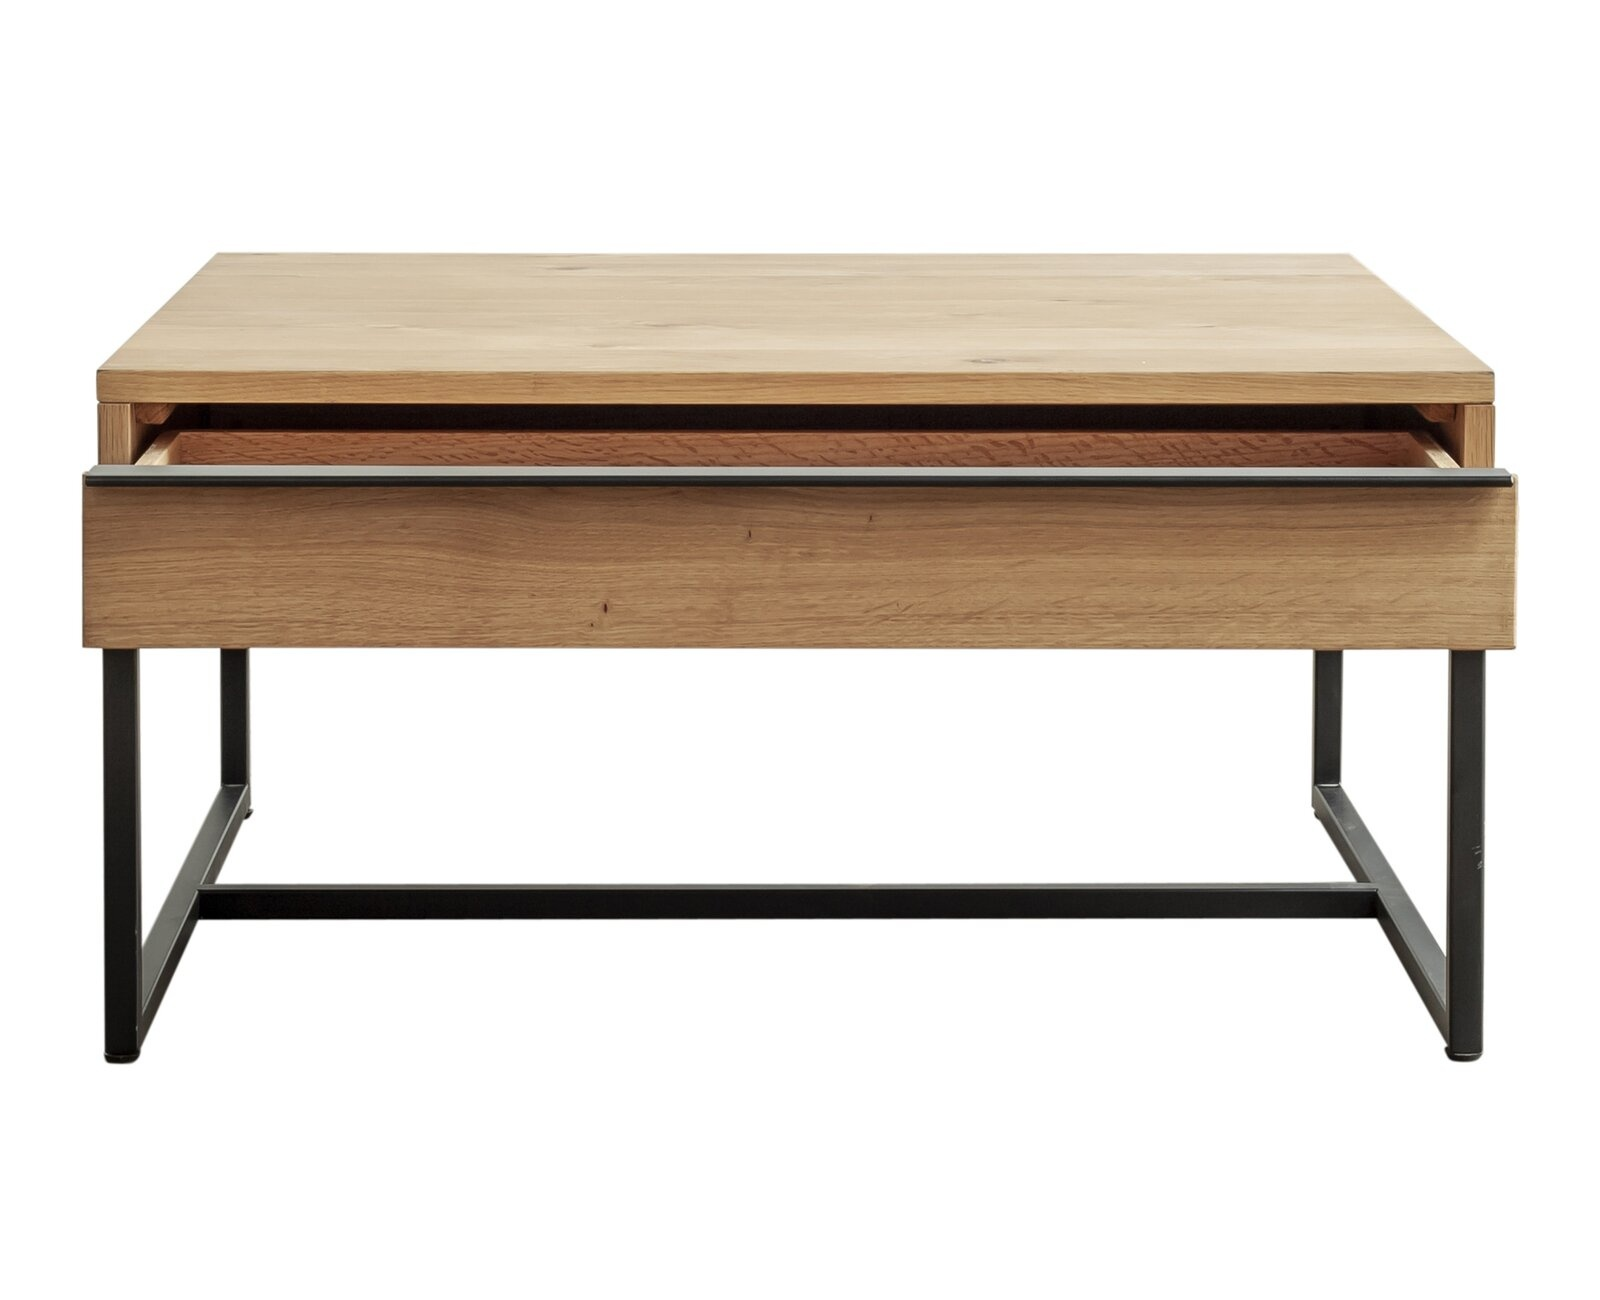obstacle: (84, 253, 1515, 1060)
